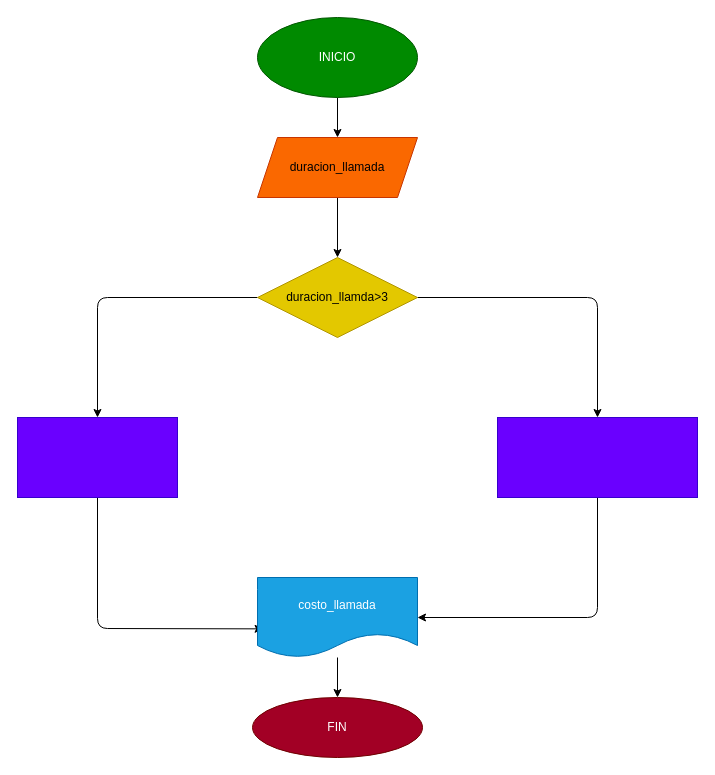
Image size: 715x775. Some labels were removed from this diagram. Each missing label, with the centre of its shape:
"costo_llamada=300+50=(duracion_llamada-3)" belongs at point (597, 457).
"coto_llamada=300" belongs at point (97, 457).
